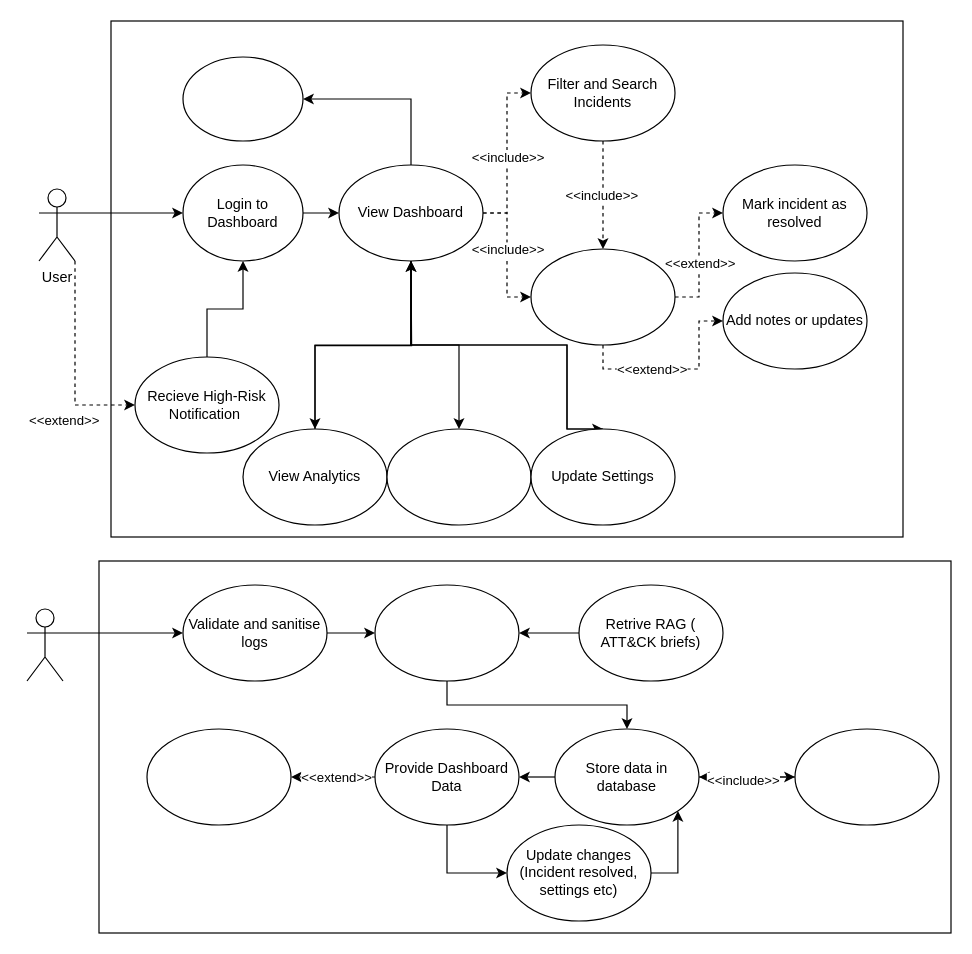
Some shapes in this 972 by 954 pixel diagram are drawn without their labels. Each missing label, with the centre of its shape:
"Backup and restore DB" belongs at [866,776].
"Generate notification alert" belongs at [218,776].
"Logout / Auto Logout" belongs at [242,98].
"Manage Users (admin only)" belongs at [458,476].
"Process log via LLM" belongs at [446,632].
"System" belongs at [44,644].
"View Description, Risk Score and Mitigation" belongs at [602,296].
